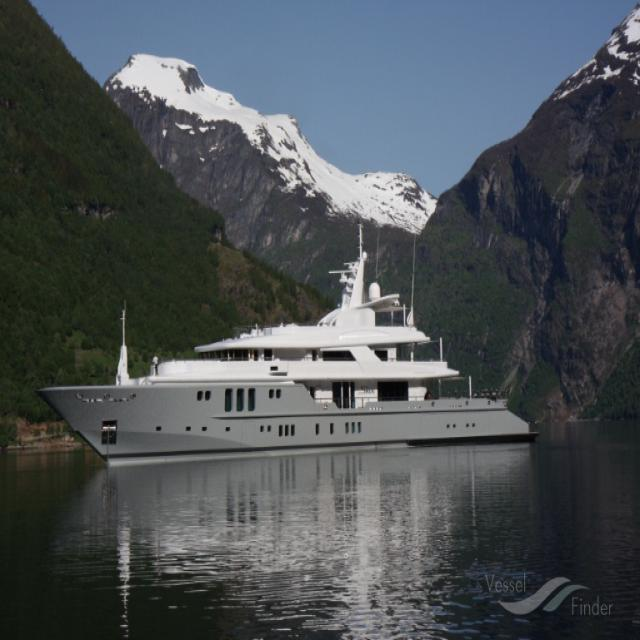Yacht: (44, 275, 538, 447)
